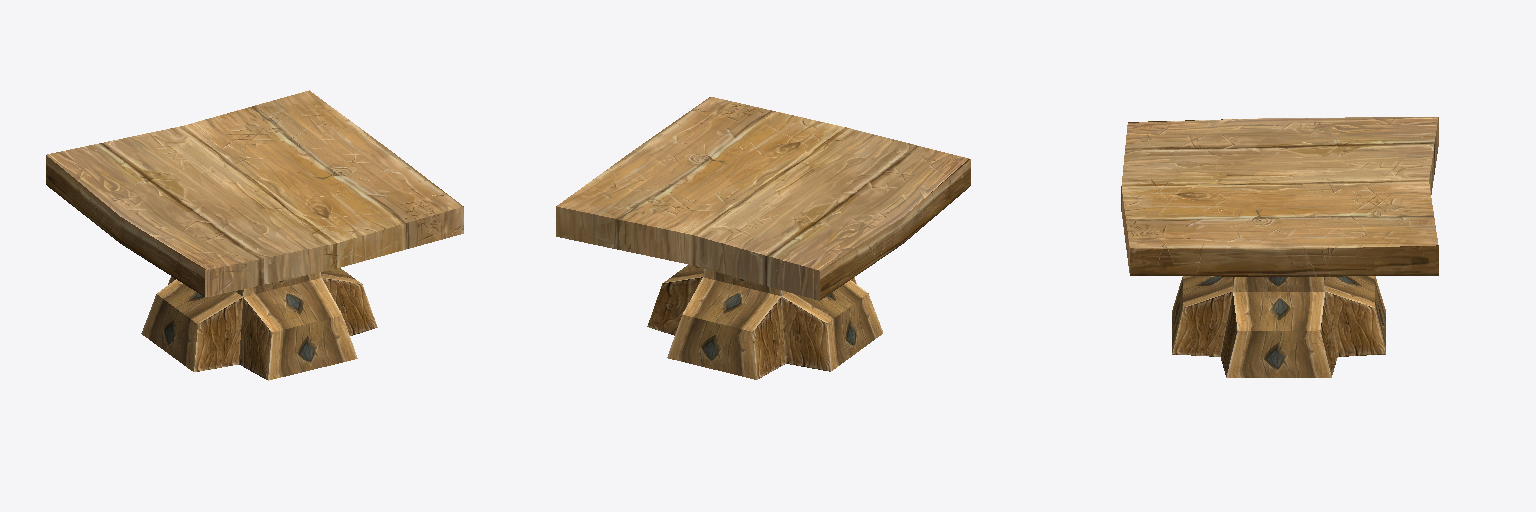
3 views of the same model, side by side, from view 1: azimuth 30°, elevation 25°; view 2: azimuth 150°, elevation 25°; view 3: azimuth 270°, elevation 25° (orthographic).
Parts seen in each view (by area): view 1: inntablesmall; view 2: inntablesmall; view 3: inntablesmall.
Part boxes in pixels (left/top/right/bottom): inntablesmall: left=46, top=90, right=463, bottom=380; inntablesmall: left=556, top=97, right=970, bottom=379; inntablesmall: left=1121, top=117, right=1438, bottom=377.
Bounding box in the file's own units: 2.13 × 1.13 × 2.16.
Materials: 3 (3 with a texture image).